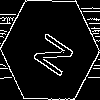N: (25, 25, 75, 80)
